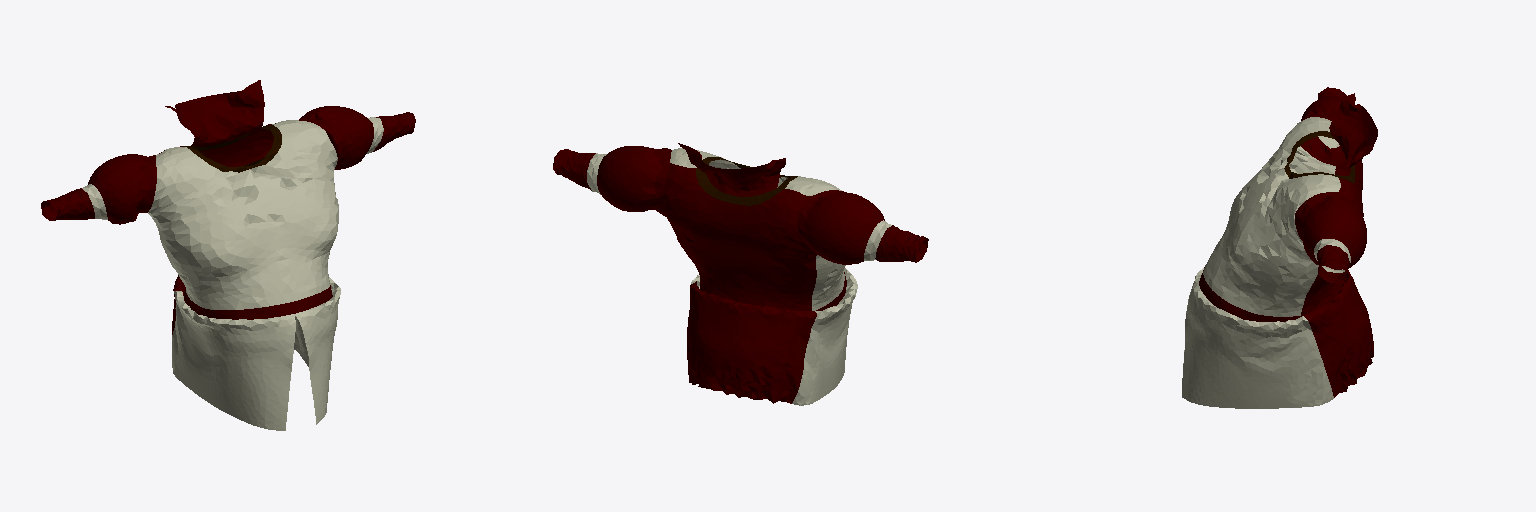
File: God_shirt.obj
The picture shows the model from 3 angles: view 1: azimuth 30°, elevation 25°; view 2: azimuth 150°, elevation 25°; view 3: azimuth 270°, elevation 25°; orthographic projection.
Visible parts, largest first — view 1: object; view 2: object; view 3: object.
Part boxes in pixels (x1,y1,x2,y2): object: (41, 80, 415, 430); object: (553, 143, 928, 405); object: (1182, 87, 1377, 408).
Size of the model in its own units: 0.7204 by 0.5111 by 0.336.